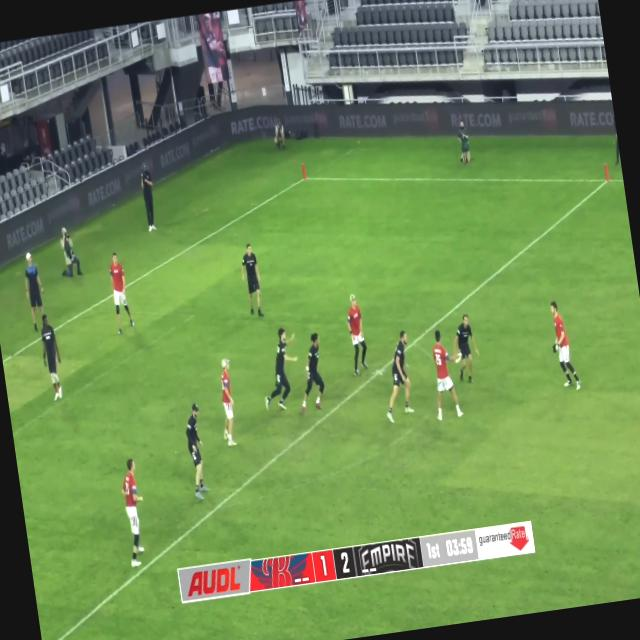Disc: (454, 352, 463, 363)
Player: (255, 327, 302, 418), (376, 330, 421, 422), (288, 330, 332, 417), (115, 458, 151, 564), (427, 329, 464, 423), (180, 402, 213, 500), (547, 301, 581, 394), (36, 310, 67, 403), (341, 294, 372, 378), (105, 250, 136, 334), (214, 359, 243, 448), (450, 312, 483, 386), (238, 242, 268, 321)
